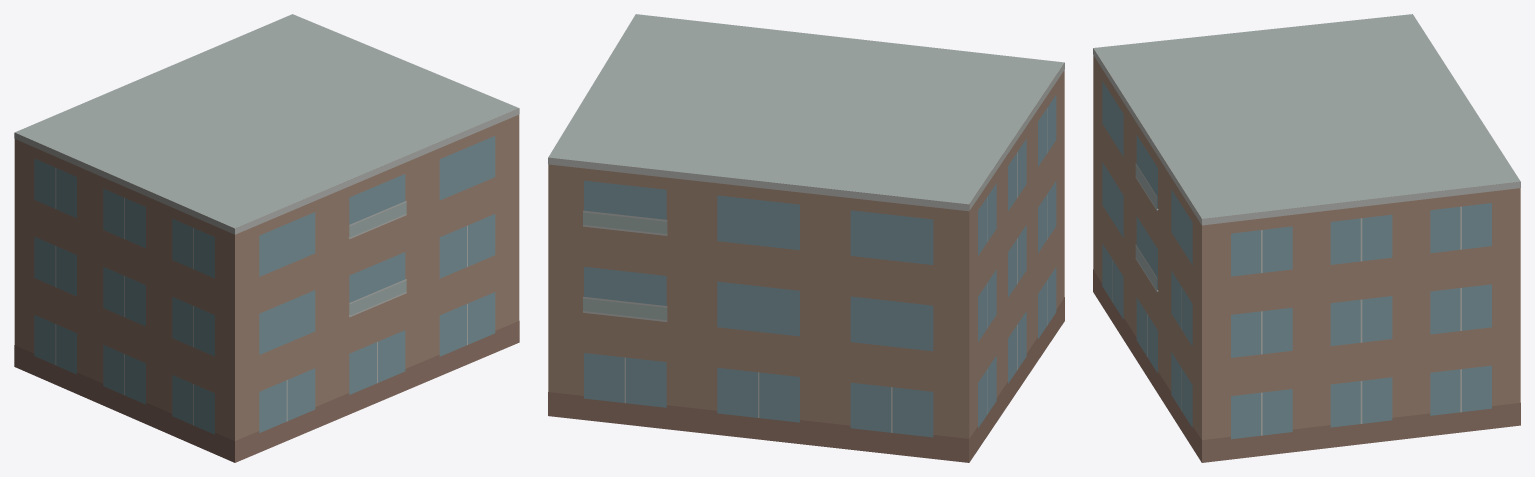
The model's file is survey-upis-32705755.glb.
3 views of the same model, side by side, from view 1: azimuth 30°, elevation 25°; view 2: azimuth 150°, elevation 25°; view 3: azimuth 270°, elevation 25° (orthographic). The views are drawn at different scales.
Parts seen in each view (by area): view 1: survey-upis-32705755.tmp; view 2: survey-upis-32705755.tmp; view 3: survey-upis-32705755.tmp.
Boxes of the visible parts, box(x1,y1,x2,y2) form: survey-upis-32705755.tmp: box(14, 14, 519, 462); survey-upis-32705755.tmp: box(548, 14, 1064, 462); survey-upis-32705755.tmp: box(1093, 14, 1520, 462).
Size of the model in its own units: 16.5 by 9.15 by 14.55.
